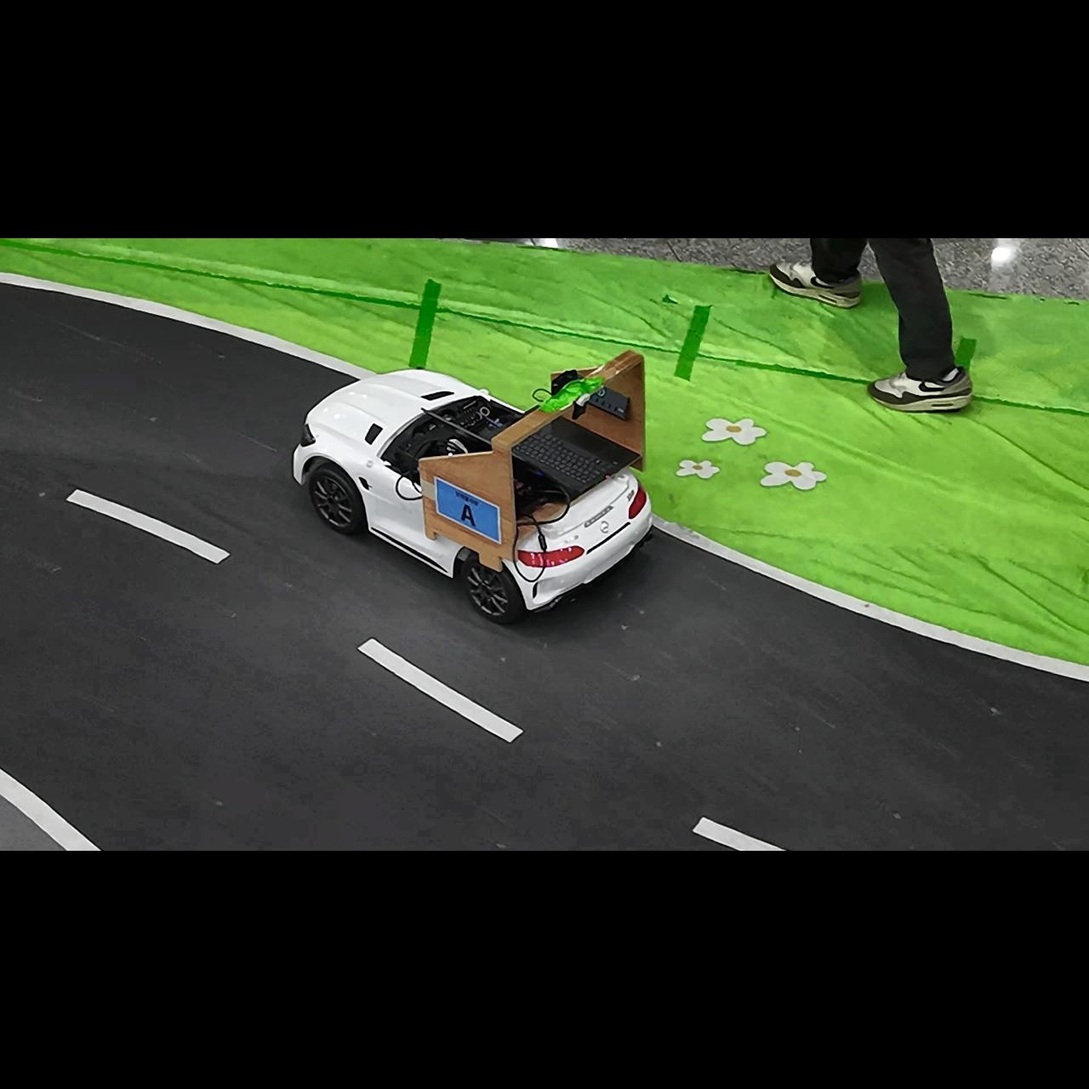broken_line: (357, 639, 524, 743), (65, 489, 231, 565), (692, 816, 786, 850)
